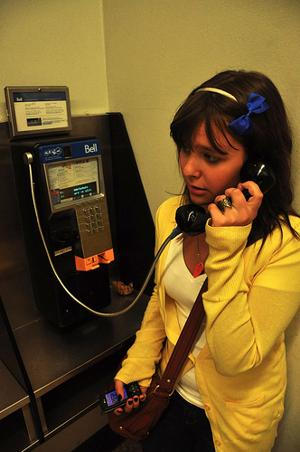person: (103, 70, 299, 452)
